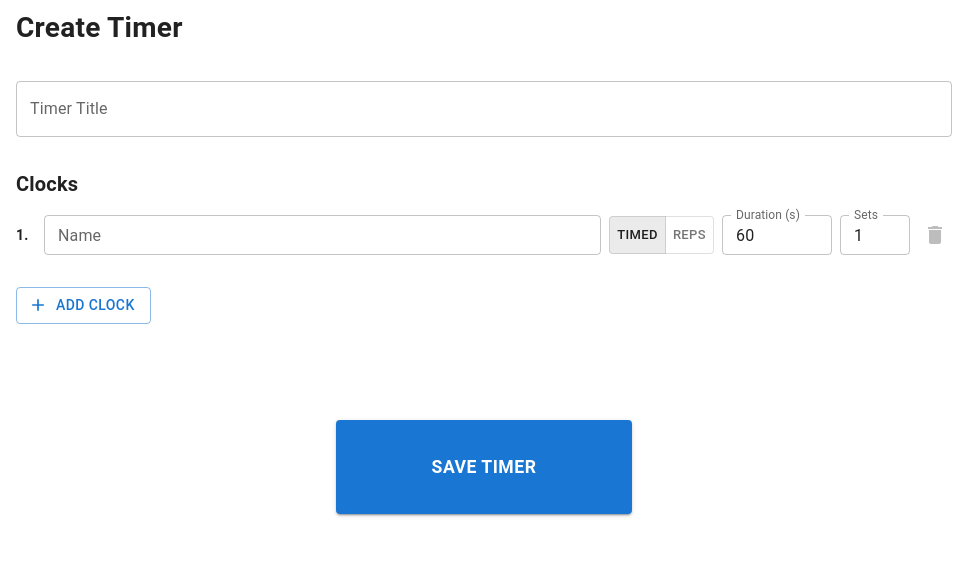
Test: CreateTimer › shows error when saving without valid clocks
This screenshot has width=969, height=565.
In the field labelled "Timer Title": (484, 109) left=16, top=81, right=952, bottom=137, type "My Routine"
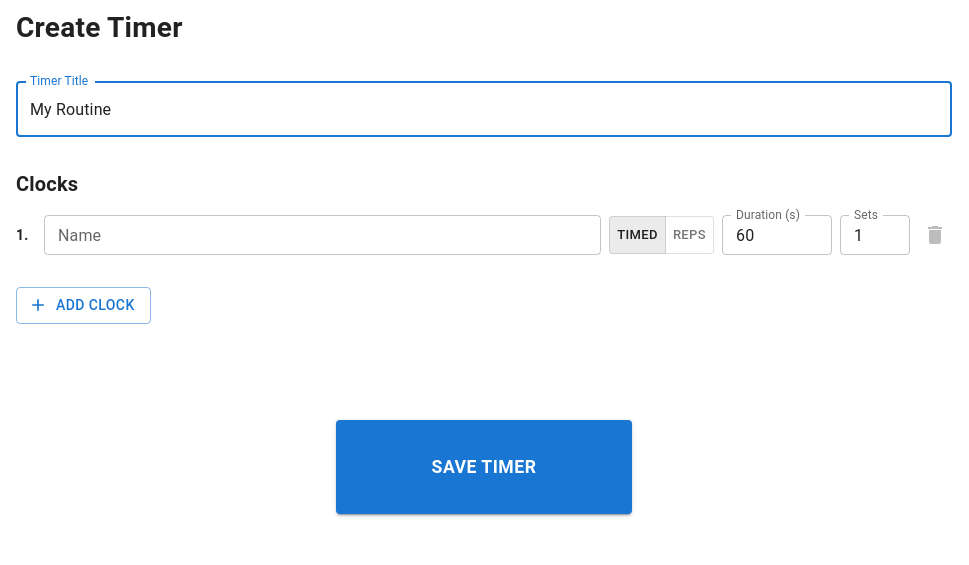
Click the button "Save Timer": (484, 467) left=336, top=420, right=632, bottom=514
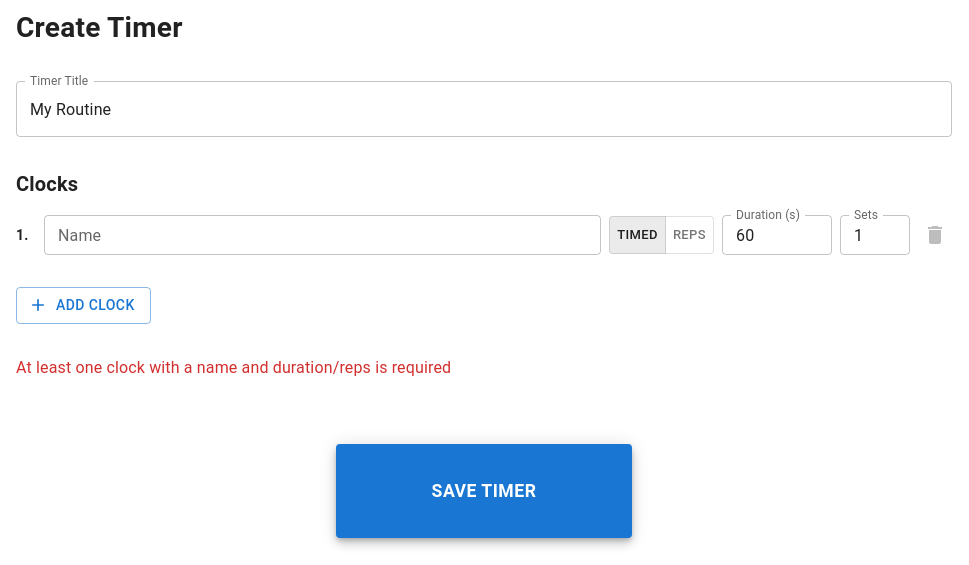
Now the text "At least one clock with a name and duration/reps is required" is shown, box left=16, top=358, right=451, bottom=376
